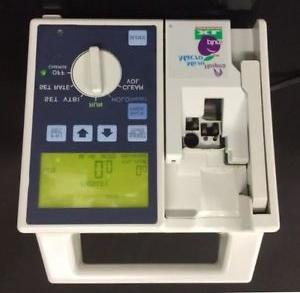plumxl1: (19, 15, 285, 282)
